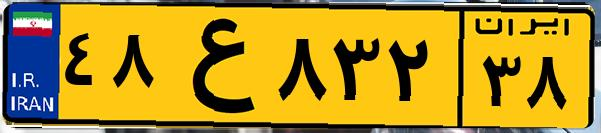2: (385, 28, 445, 110)
3: (330, 28, 385, 110), (475, 38, 525, 113)
4: (57, 26, 110, 100)
8: (270, 28, 330, 110), (525, 38, 570, 115), (110, 28, 158, 98)
ع: (158, 12, 270, 120)
